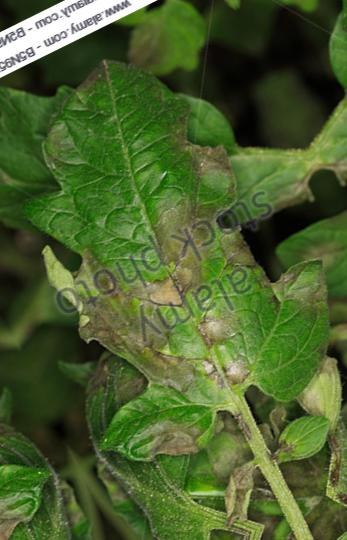Tomato leaf late blight: (0, 0, 347, 505)
